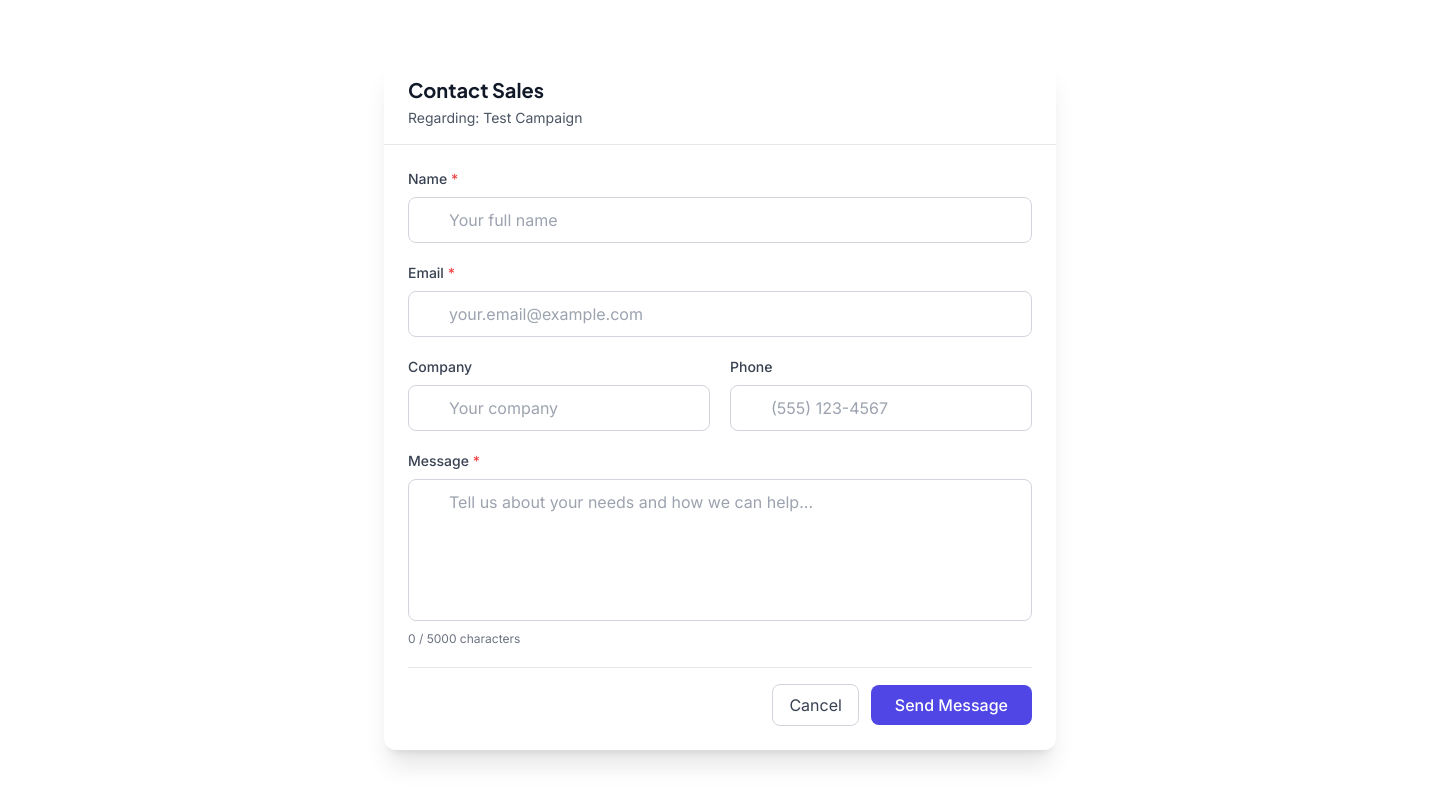
it: ContactSalesModal › validates message length
In the field labelled "Name *": (720, 220) [408,197,1032,243], type "John Doe"
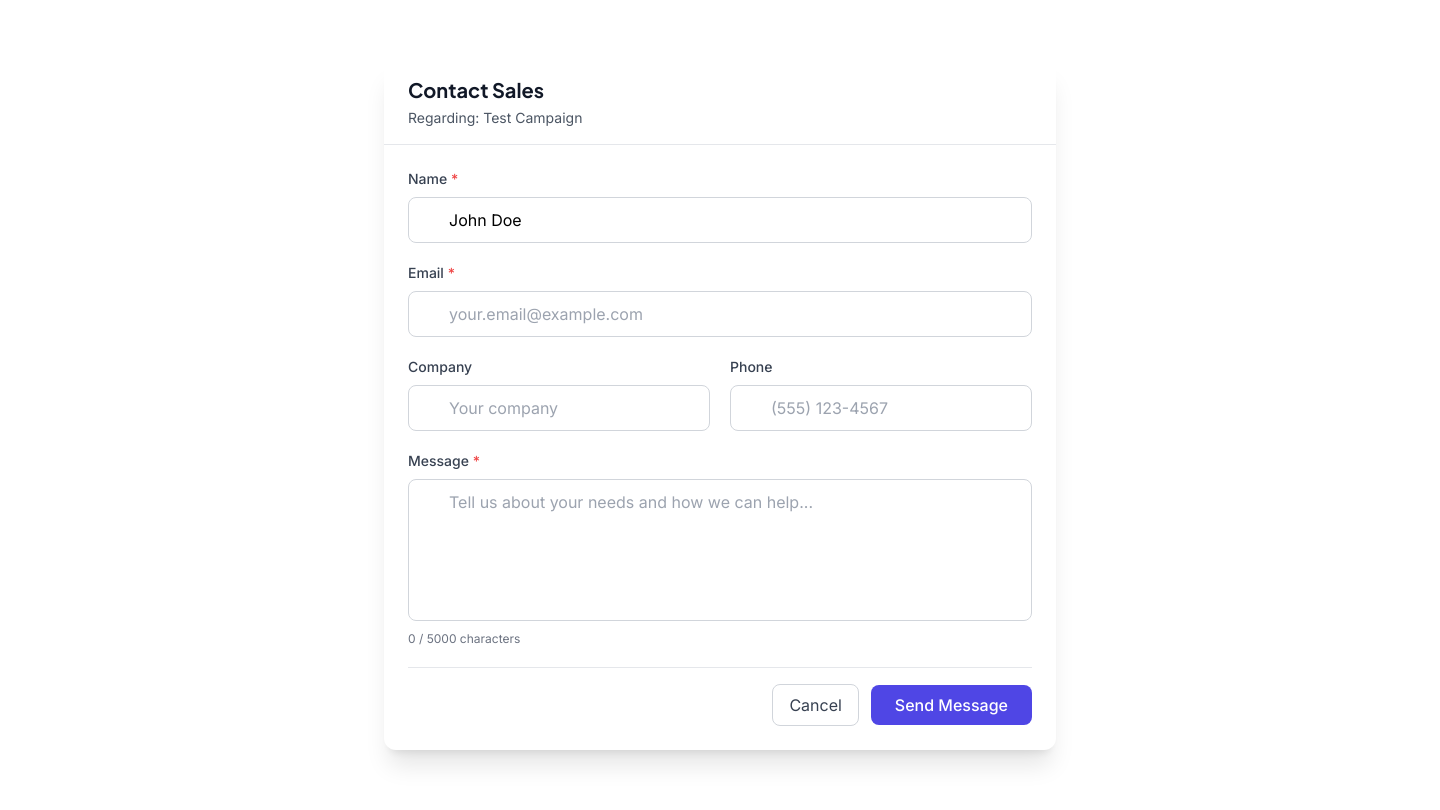
In the field labelled "Email *": (720, 314) [408,291,1032,337], type "john@example.com"
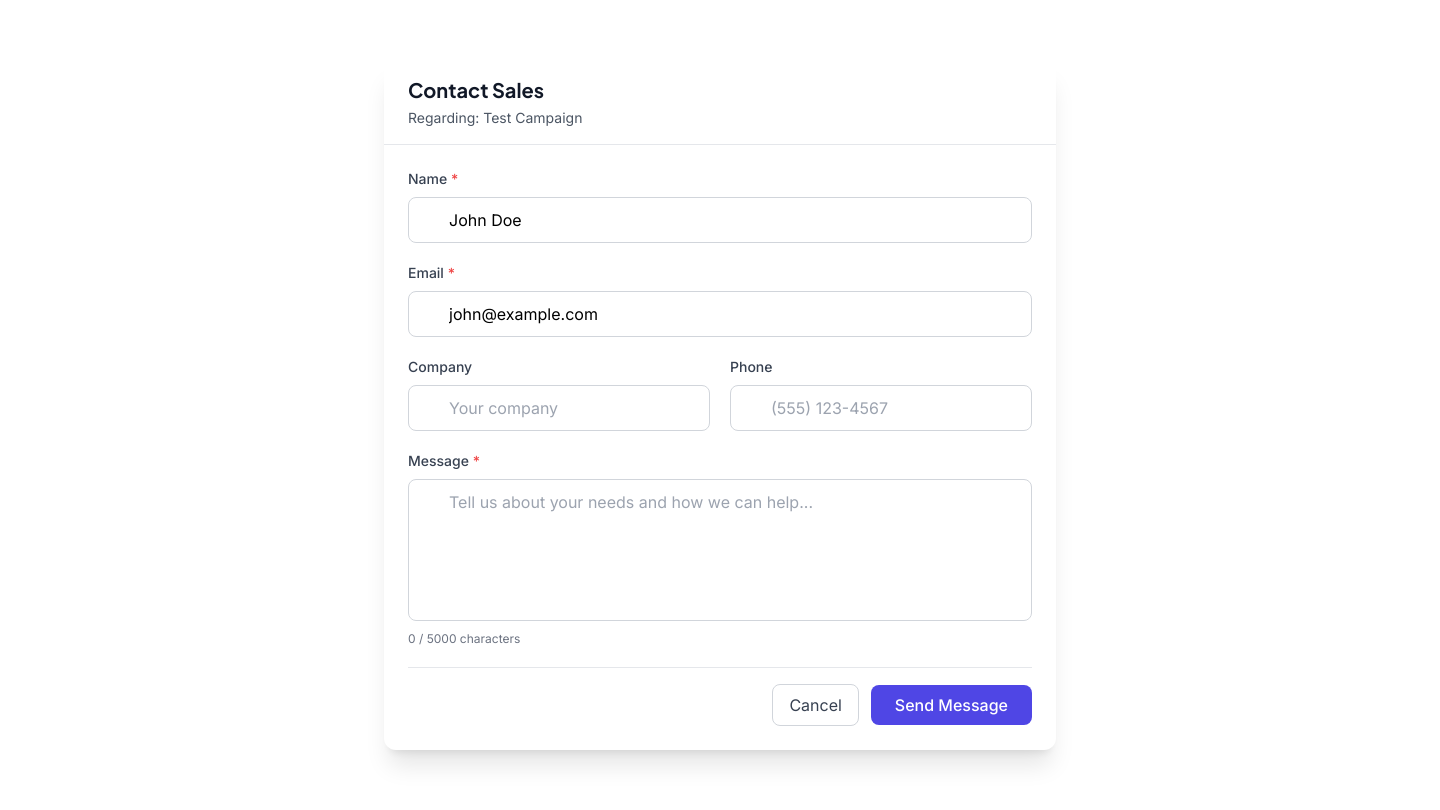
In the text box labelled "Message *": (720, 550) [408,479,1032,621], type "Short"
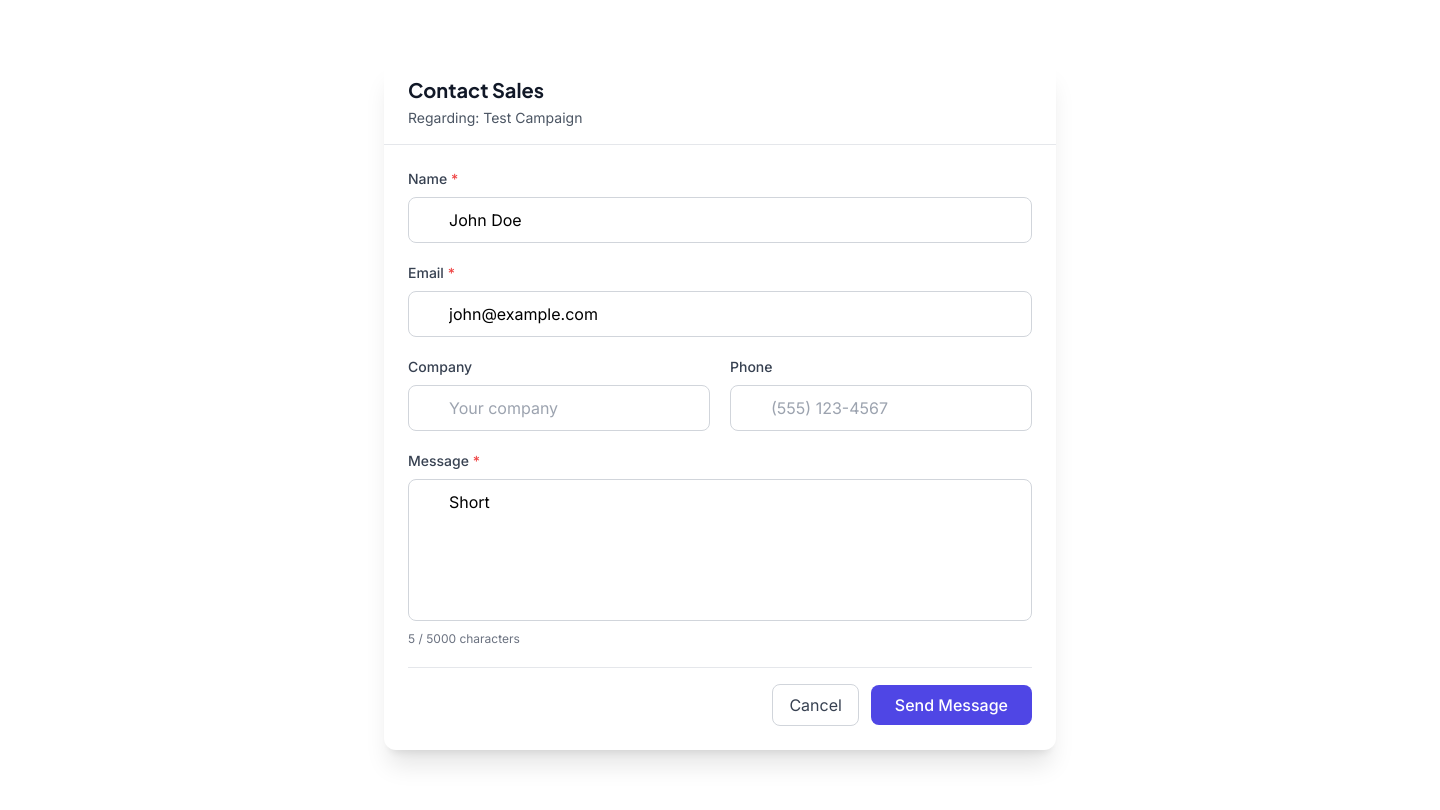
Click the button "Send Message": (951, 705) [871,685,1032,725]
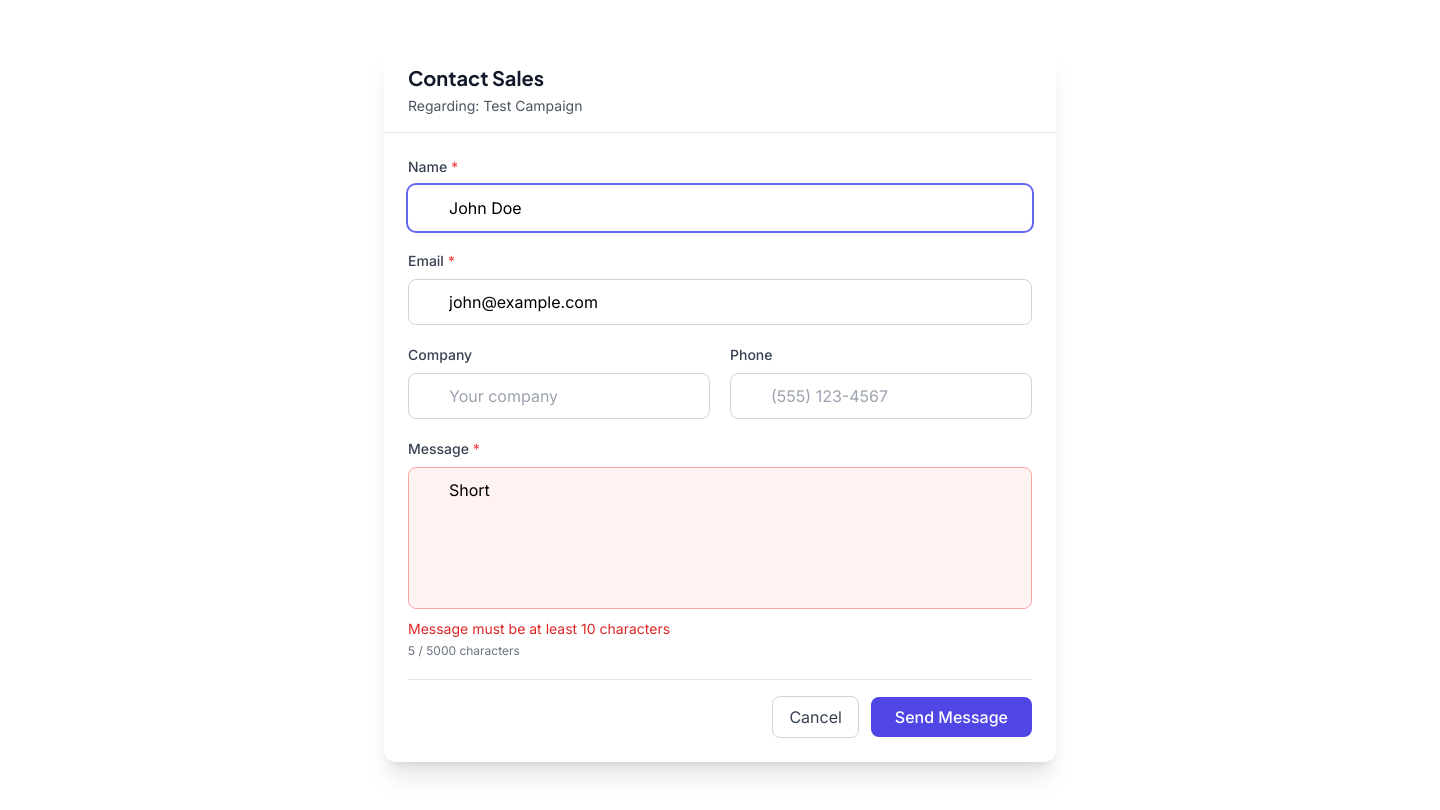
Expected: the text "Message must be at least 10 characters" is shown, [408,620,670,637]
